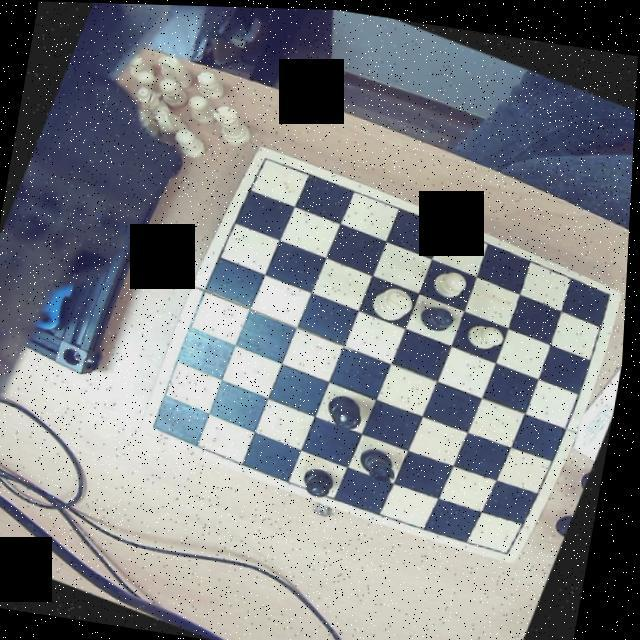chess-table-corners: (145, 408, 177, 438), (250, 144, 280, 174), (592, 277, 625, 302), (499, 532, 528, 560)
